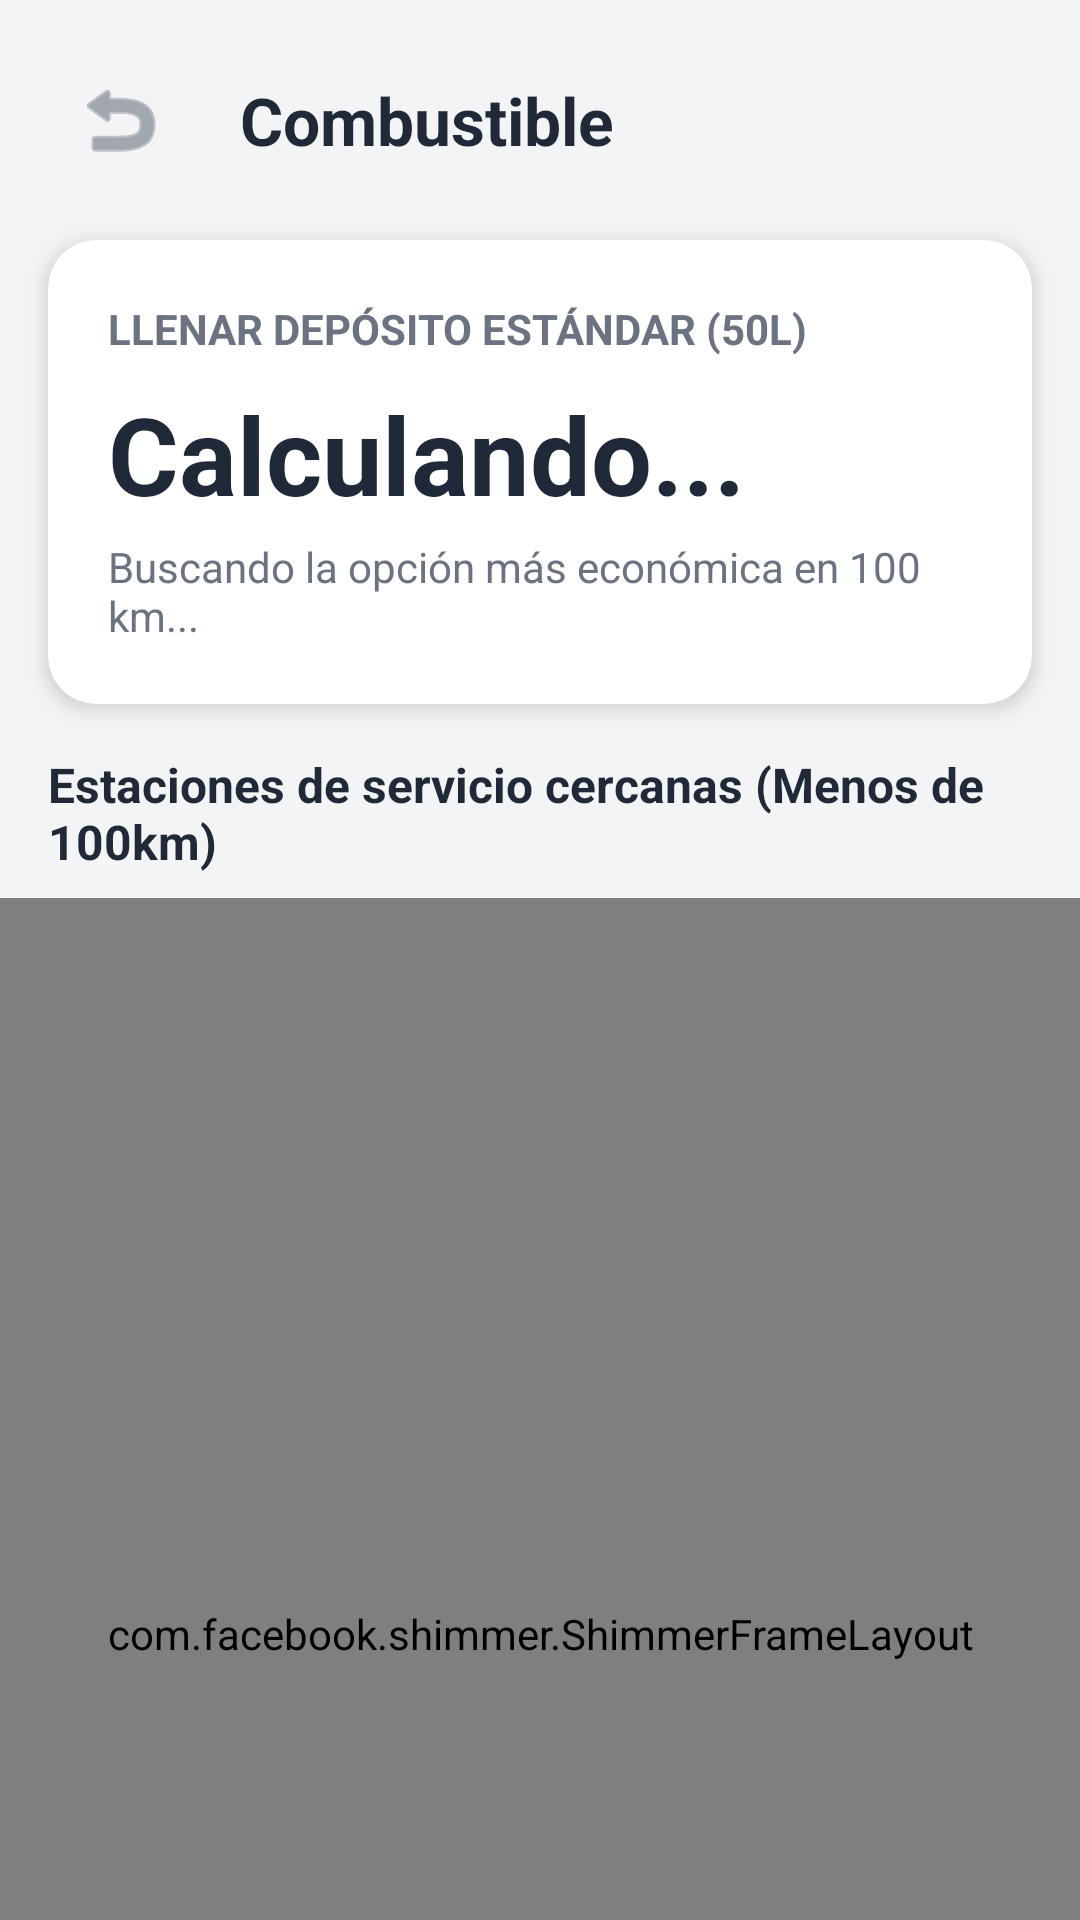

Named icons in this screenshot (1080*1920) and their bounding boxes, detection(x1, y1, x2, y2):
Volver: detection(87, 90, 156, 152)
